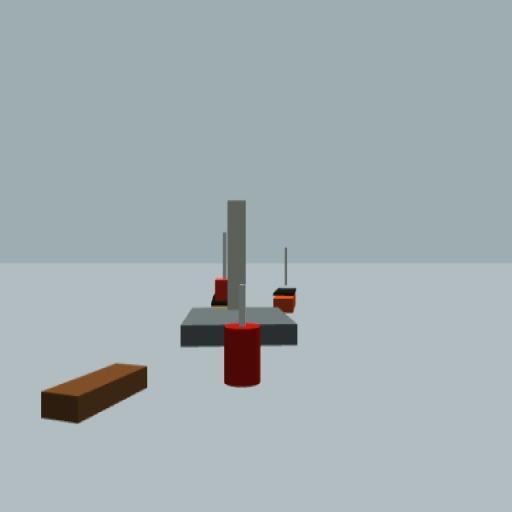debris_container: (40, 362, 148, 426)
floating_obstacle: (225, 284, 261, 390)
